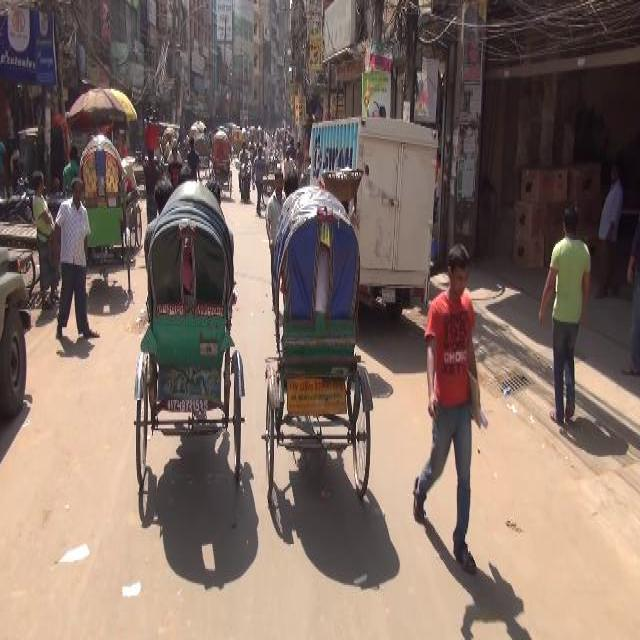motorbike: (233, 142, 253, 204)
pickup: (304, 118, 432, 310)
rickshaw: (131, 169, 245, 492), (262, 183, 374, 510), (78, 132, 132, 295), (209, 127, 233, 200)
